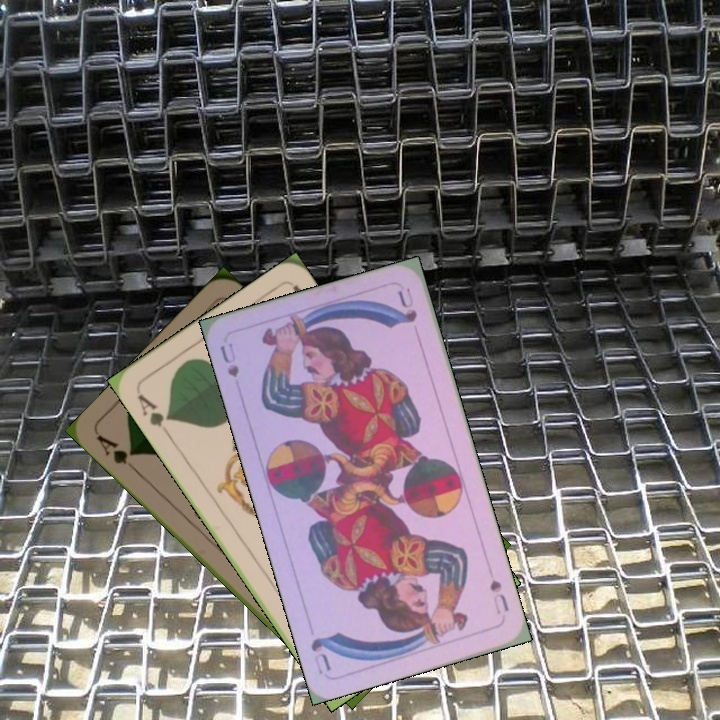GA: (92, 430, 141, 476), (132, 390, 175, 440)
SU: (215, 338, 242, 380), (485, 576, 512, 617)
